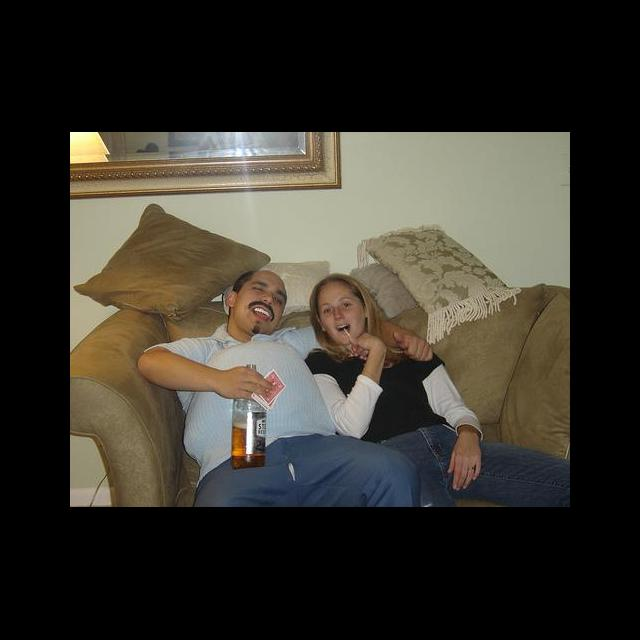NO-Hardhat: (310, 274, 362, 297), (238, 271, 287, 286)
NO-Mask: (227, 290, 281, 333), (322, 312, 367, 344)
NO-Safety Vest: (185, 326, 333, 452), (314, 343, 444, 439)
Person: (137, 270, 422, 508), (306, 274, 570, 508)
